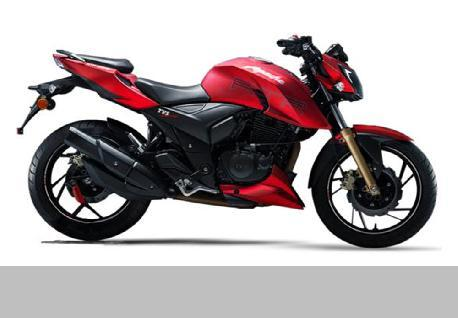motorbike: (17, 34, 436, 249)
